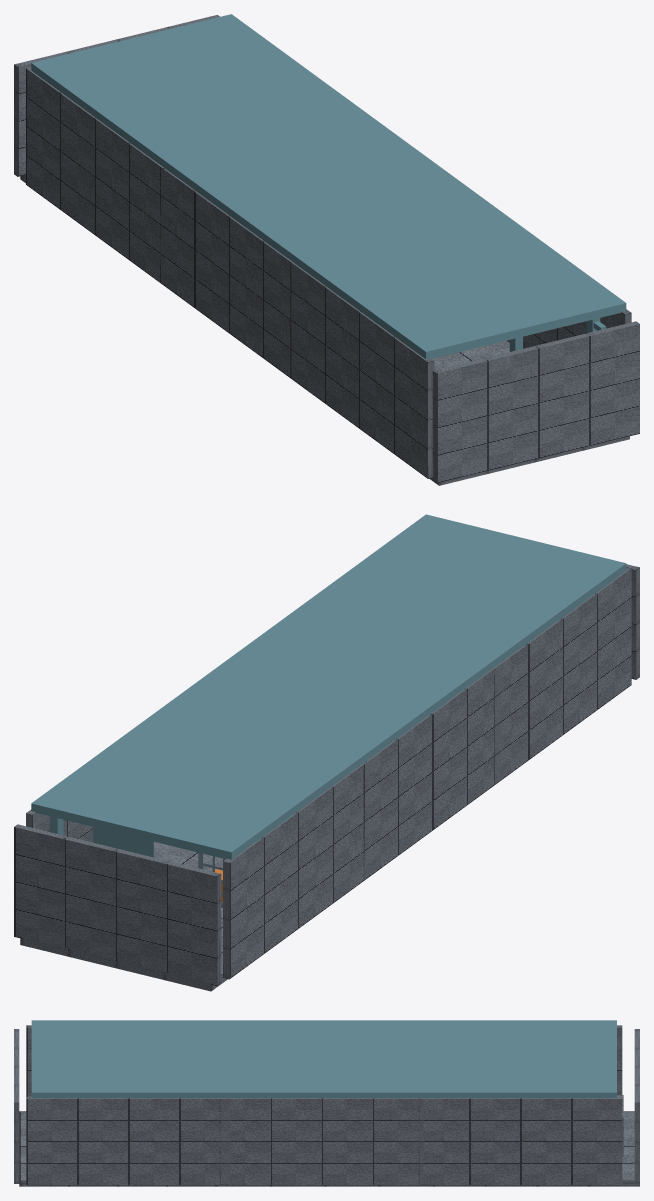
The model's file is import-lab.glb.
The picture shows the model from 3 angles, top to bottom: view 1: azimuth 30°, elevation 25°; view 2: azimuth 150°, elevation 25°; view 3: azimuth 270°, elevation 25°; orthographic projection. The views are drawn at different scales.
Parts seen in each view (by area): view 1: Ceiling (×3), Side wall (×4), Rear wall, Far wall, Entry floor; view 2: Ceiling (×3), Side wall (×4), Far wall, Far floor, Rear wall, Thin divider; view 3: Side wall (×5), Ceiling (×3), Far floor, Entry floor, Rear wall, Far wall, Central floor.
Part boxes in pixels (bbox=[...]): Ceiling (×3): bbox=[31, 14, 626, 359]; Side wall (×4): bbox=[26, 67, 631, 478]; Rear wall: bbox=[432, 321, 639, 483]; Far wall: bbox=[14, 15, 219, 176]; Entry floor: bbox=[429, 340, 629, 485]; Ceiling (×3): bbox=[31, 514, 626, 859]; Side wall (×4): bbox=[26, 567, 631, 979]; Far wall: bbox=[14, 824, 221, 986]; Far floor: bbox=[20, 842, 227, 991]; Rear wall: bbox=[626, 564, 639, 679]; Thin divider: bbox=[93, 827, 154, 857]; Side wall (×5): bbox=[26, 1025, 622, 1185]; Ceiling (×3): bbox=[31, 1020, 616, 1098]; Far floor: bbox=[433, 1111, 639, 1186]; Entry floor: bbox=[19, 1111, 215, 1186]; Rear wall: bbox=[14, 1029, 19, 1183]; Far wall: bbox=[634, 1029, 639, 1183]; Central floor: bbox=[215, 1185, 432, 1186].
Size of the model in its own units: 6.4 by 3.88 by 23.
6 materials, 2 textured.
